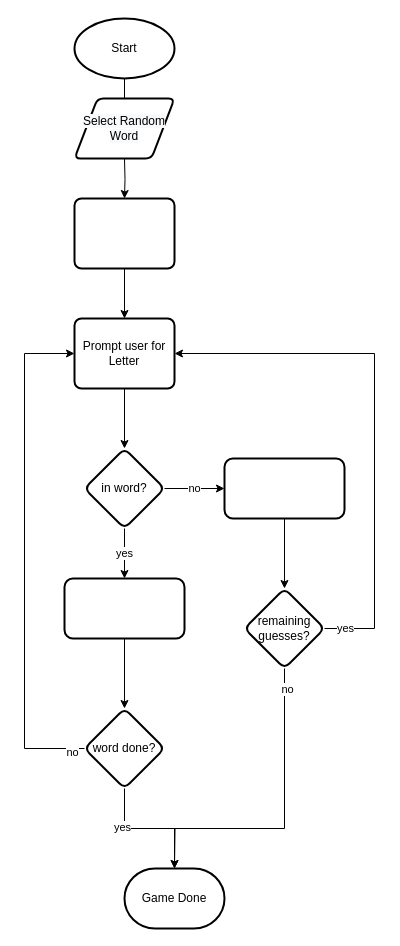
Some shapes in this 400 by 946 pixel diagram are drawn without their labels. The centre of each missing label's shape, as x and y in pixels:
Display word blanks and image: point (124, 233)
update image: point (284, 488)
update word blanks with letter: point (124, 608)
